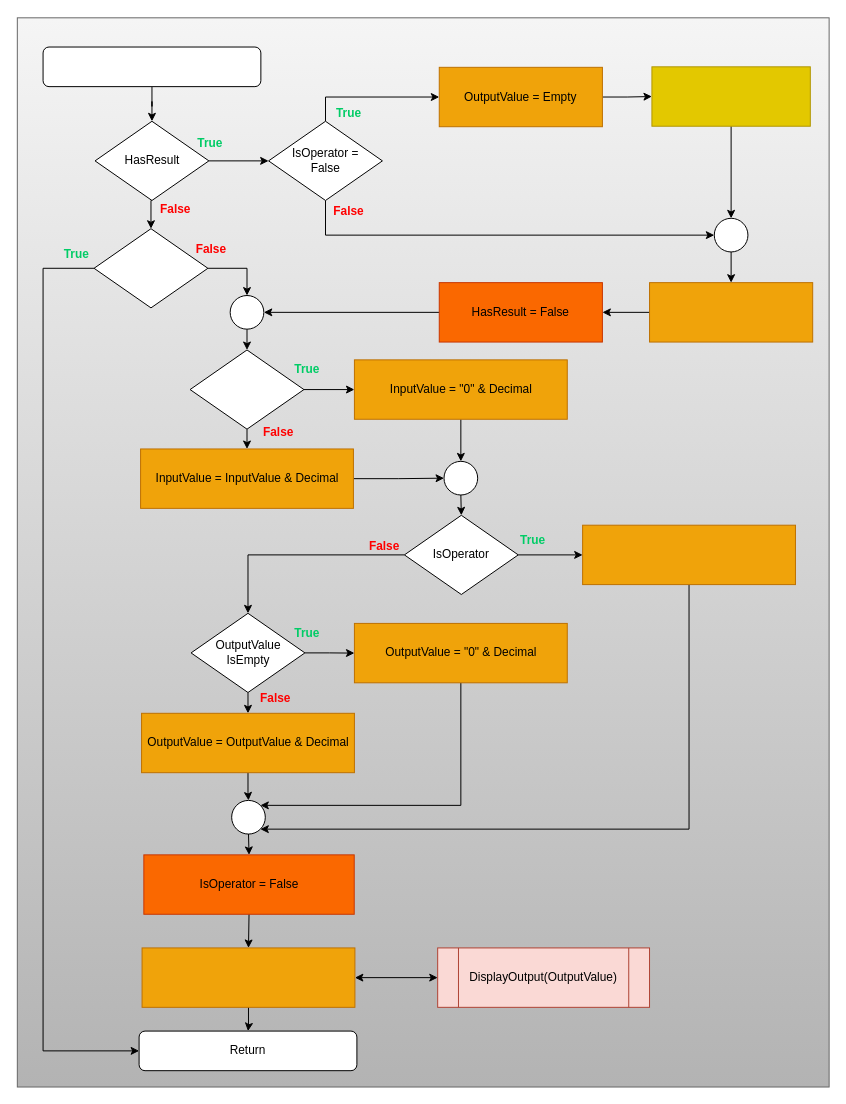
Image size: 846x1104. Some labels were removed from this diagram. Each missing label, with the centre of its shape:
"DecimalInput(Decimal)" belongs at [151,66].
"FirstValue = 0.0" belongs at [730,96].
"InputValue = Empty" belongs at [731,312].
"InputValue HasDecimal" belongs at [150,268].
"InputValue IsEmpty" belongs at [246,389].
"OutputValue" belongs at [248,977].
"OutputValue = OutputValue & InputValue" belongs at [688,554].
